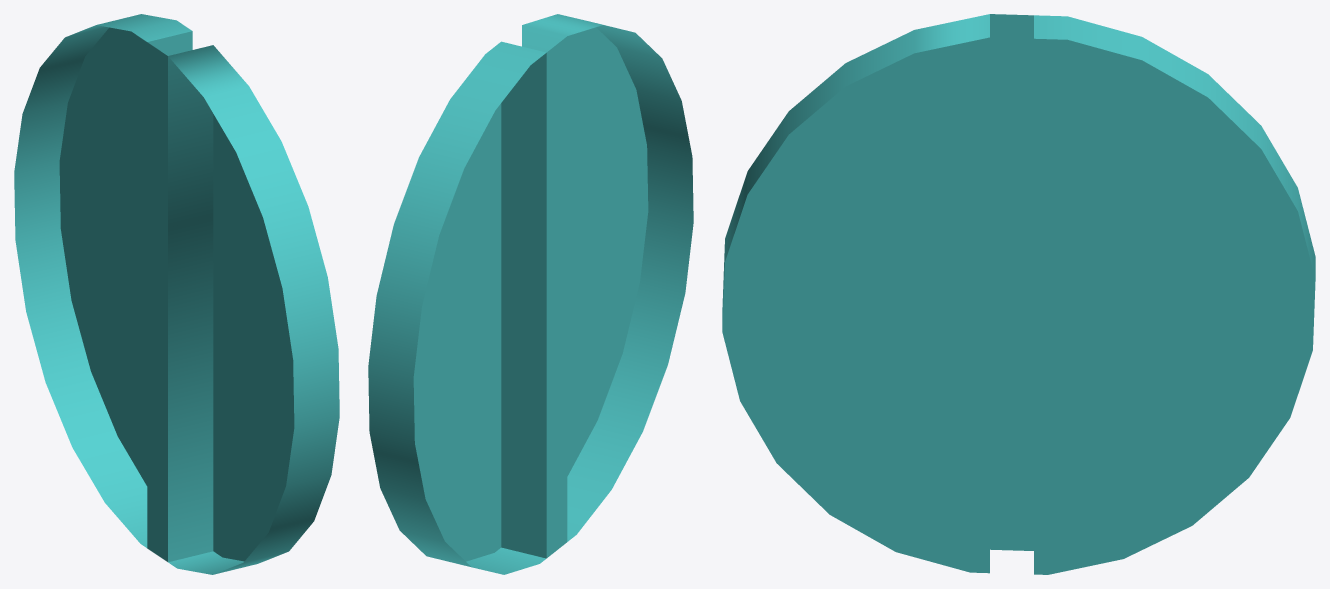
The model's file is original-13.obj.
3 views of the same model, side by side, from view 1: azimuth 30°, elevation 25°; view 2: azimuth 150°, elevation 25°; view 3: azimuth 270°, elevation 25° (orthographic). The views are drawn at different scales.
Visible parts, largest first — view 1: #ID90; view 2: #ID90; view 3: #ID90.
Part boxes in pixels (x1,y1,x2,y2): #ID90: (14, 14, 339, 574); #ID90: (368, 14, 693, 574); #ID90: (722, 14, 1315, 574).
Size of the model in its own units: 0.00398 by 0.0425 by 0.0425.
